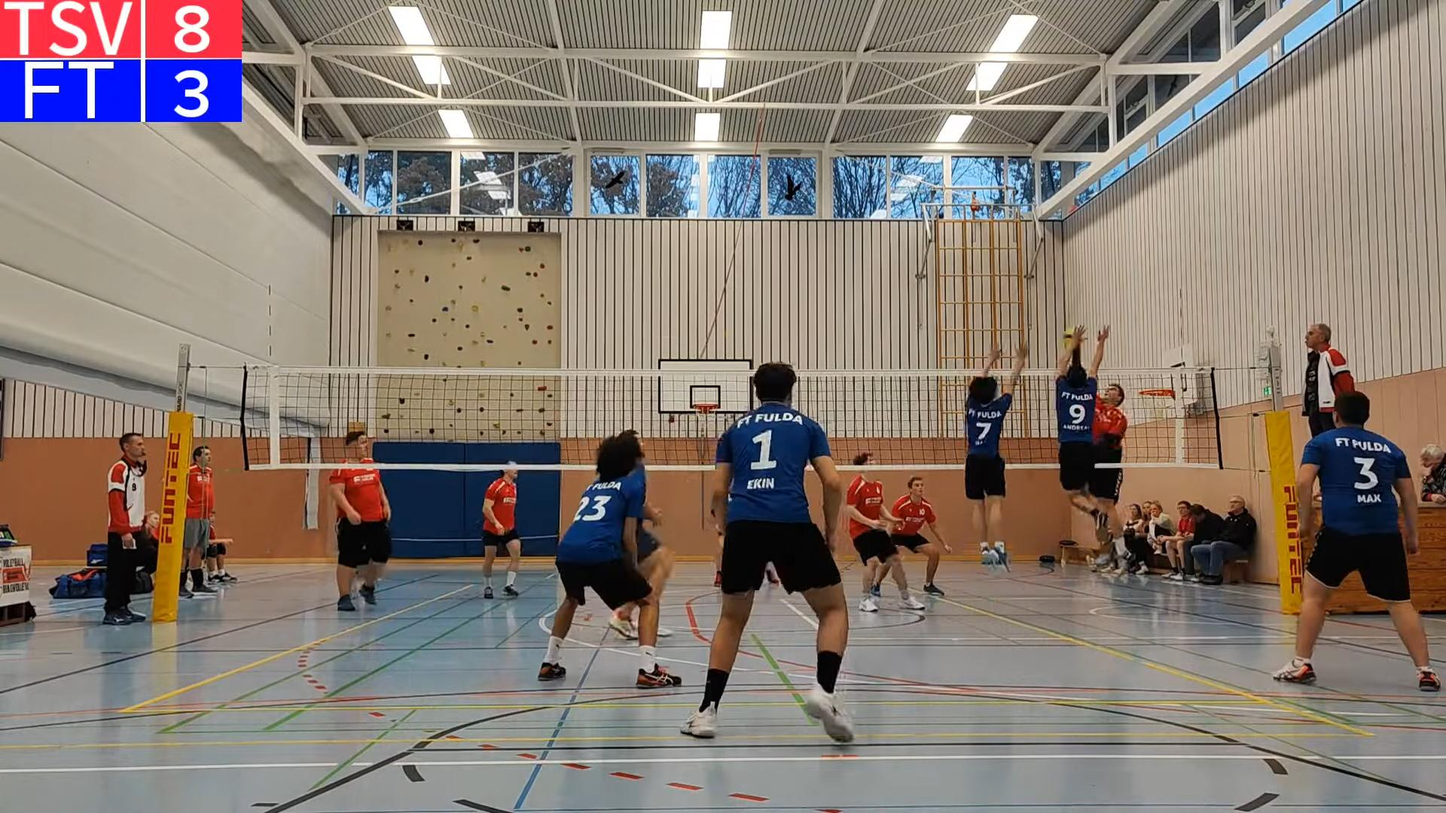attacco: (1086, 375, 1145, 578)
muro: (967, 334, 1030, 568), (1056, 319, 1113, 570)
